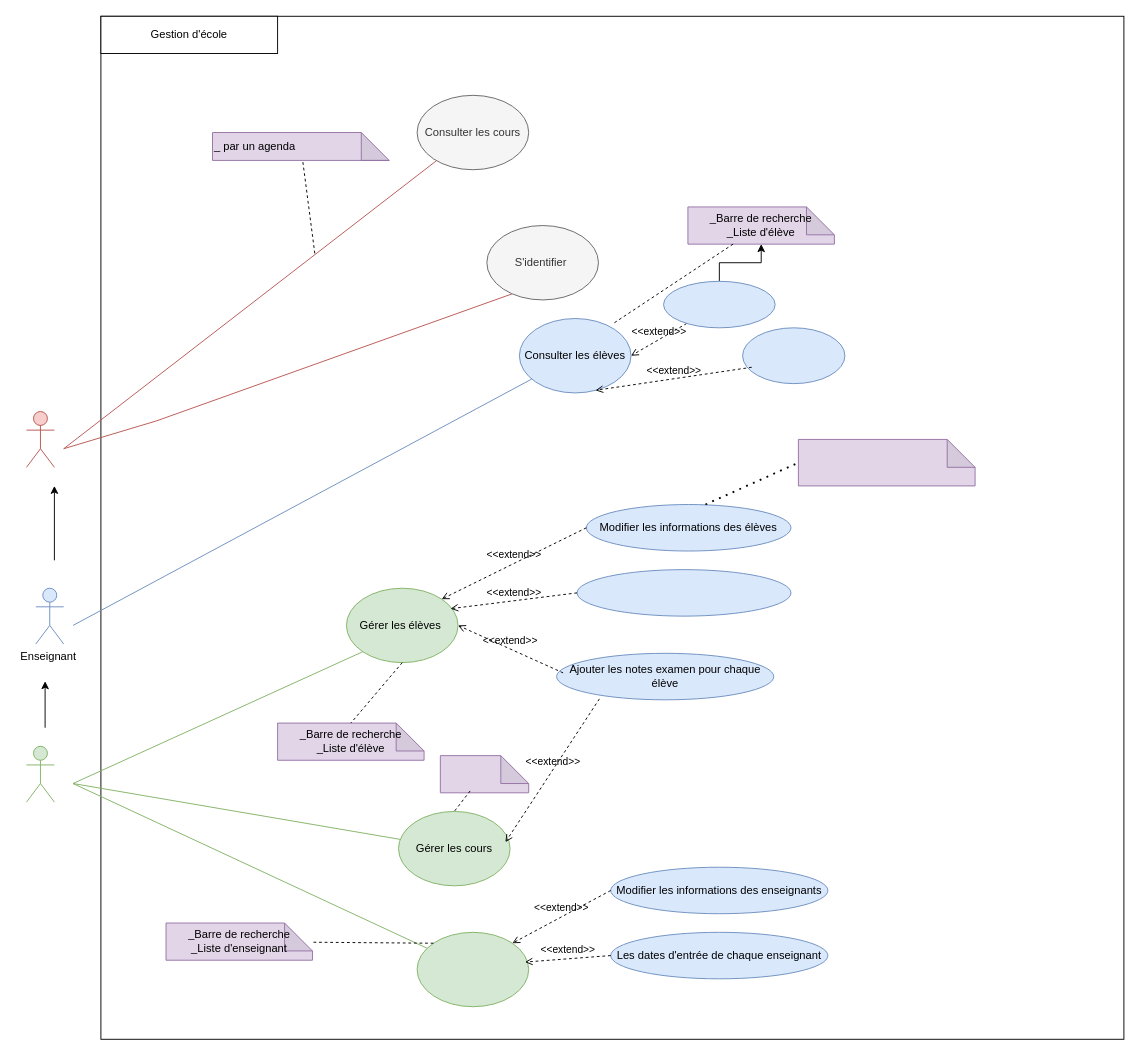
Some shapes in this 1140 by 1056 pixel diagram are drawn without their labels. Each missing label, with the centre of its shape:
"_par un agenda" belongs at (x=484, y=774).
"Ajouter ou supprimer un élève d'un cours" belongs at (x=683, y=592).
"Directeur" belongs at (x=40, y=773).
"Elève" belongs at (x=40, y=439).
"Gérer les enseignant" belongs at (x=472, y=969).
"Modifier le nom, prénom, age et l'adresse de l'élève" belongs at (x=886, y=462).
"Verifier les absent" belongs at (x=719, y=304).
"Vérifier les note des élevés" belongs at (x=793, y=355).
